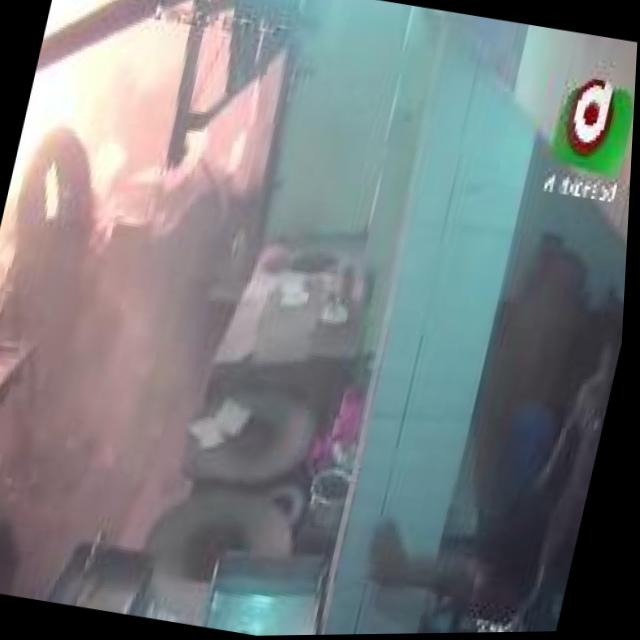fire: (8, 0, 164, 212)
